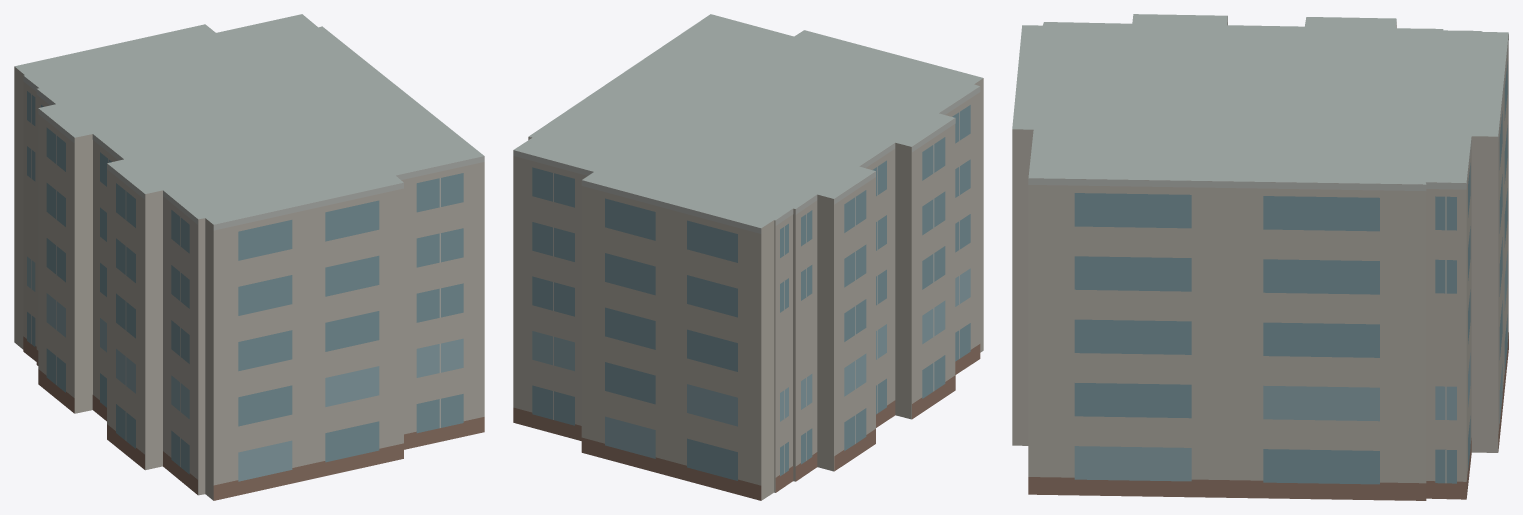
Rendered from survey-upis-32663205.glb.
3 renders of one model, left to right at view 1: azimuth 30°, elevation 25°; view 2: azimuth 150°, elevation 25°; view 3: azimuth 270°, elevation 25°, orthographic. The views are drawn at different scales.
Visible parts, largest first — view 1: survey-upis-32663205.tmp; view 2: survey-upis-32663205.tmp; view 3: survey-upis-32663205.tmp.
Part boxes in pixels (x1,y1,x2,y2): survey-upis-32663205.tmp: (14, 14, 484, 500); survey-upis-32663205.tmp: (513, 14, 983, 500); survey-upis-32663205.tmp: (1012, 14, 1508, 500).
Size of the model in its own units: 13.42 by 11.6 by 16.51.
